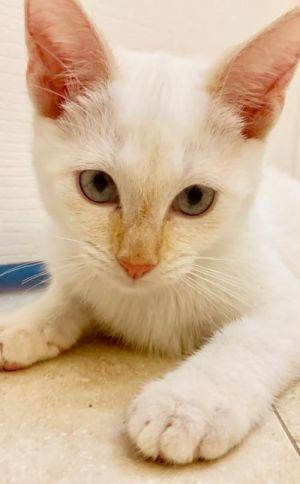siamese: (9, 1, 300, 301)
